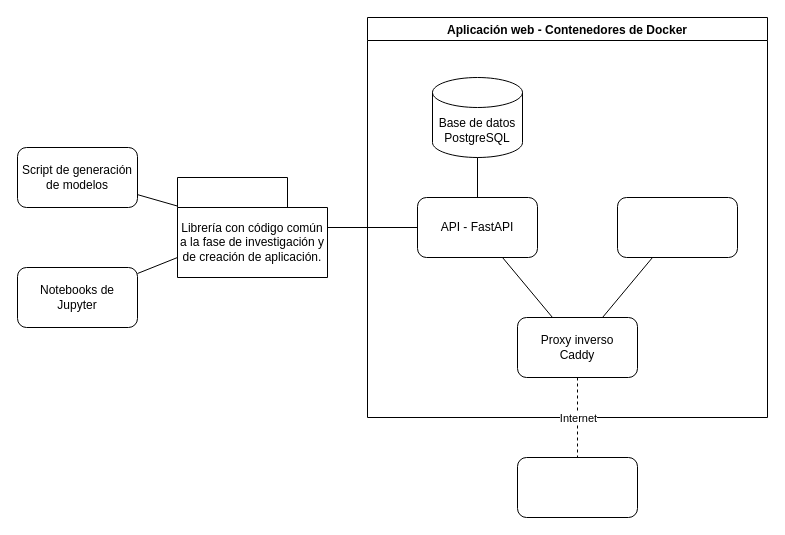
The diagram is 785 pixels wide and 535 high, and some of its shapes have lost their labels. The shapes that lost their labels are listed below. From the top down, each one's centre as x and y in pixels, then its label:
At [252,227]: "Paddel".
At [677,227]: "Página web SvelteKit".
At [577,487]: "Navegador del usuario".
